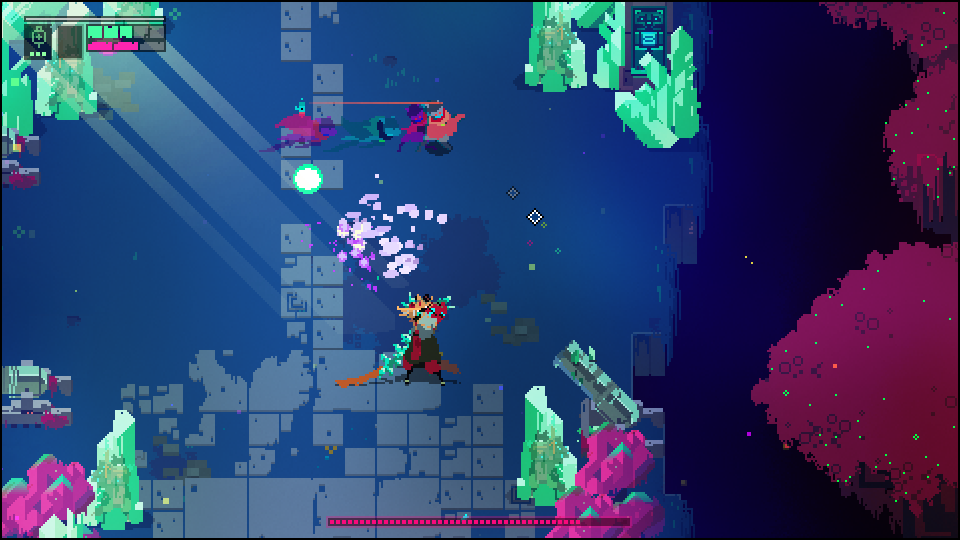hanged_man: (377, 294, 455, 392)
hanged_shot: (290, 161, 323, 197)
player: (424, 105, 464, 149)
